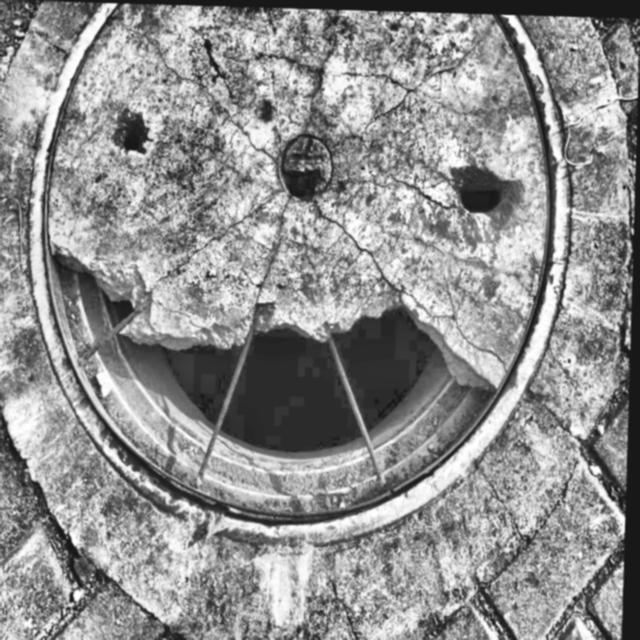open_manhole: (30, 3, 569, 524)
